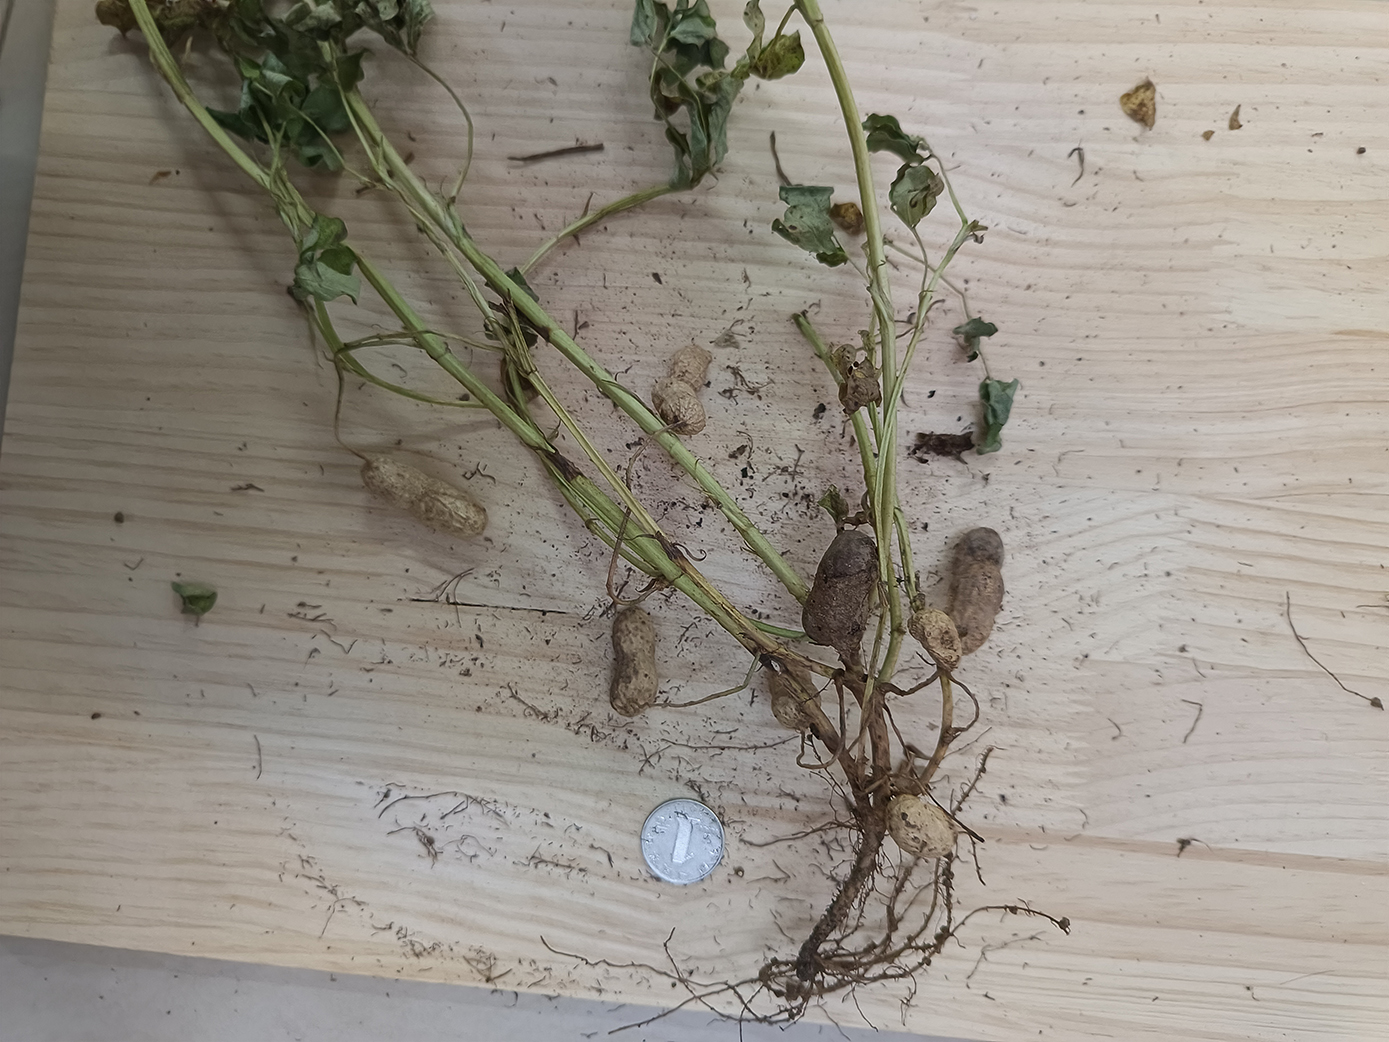h: (360, 454, 487, 539), (651, 344, 714, 436), (609, 607, 659, 718), (886, 792, 954, 858), (768, 662, 822, 730), (906, 607, 963, 670)
l: (803, 528, 880, 647), (950, 528, 1006, 652)
